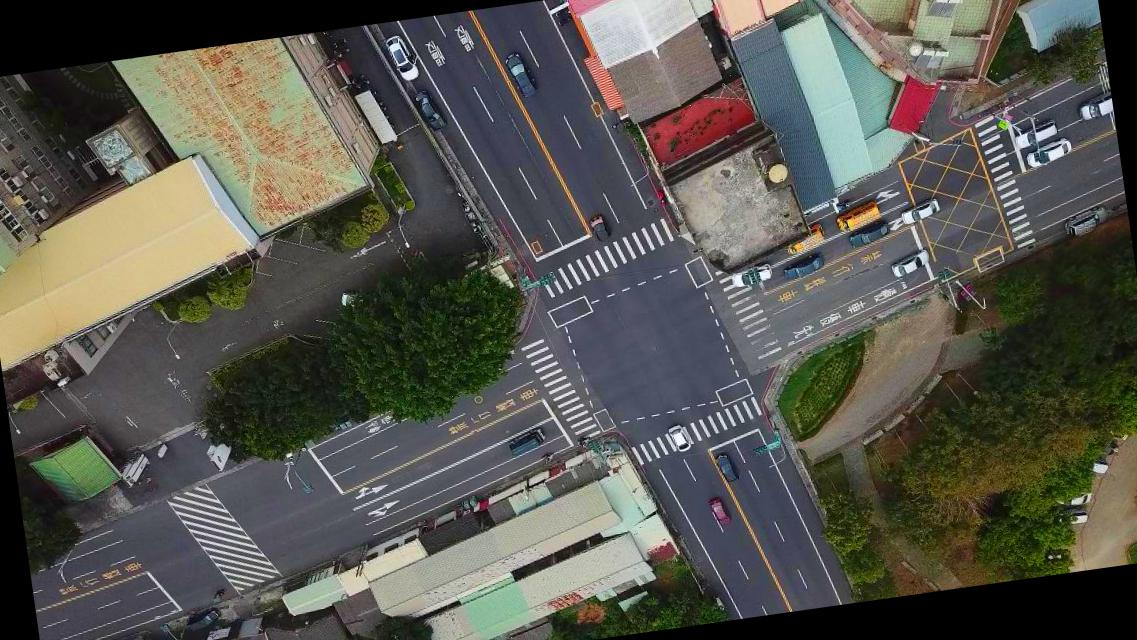vehicle: (384, 29, 422, 86), (410, 86, 448, 136), (504, 48, 538, 100), (1023, 136, 1074, 170), (833, 201, 882, 236), (1061, 204, 1110, 238), (1011, 118, 1060, 151), (846, 218, 892, 252), (888, 247, 934, 281), (783, 223, 827, 257), (505, 425, 550, 458), (780, 253, 826, 283), (897, 199, 942, 228), (729, 262, 773, 290), (1076, 90, 1114, 122), (184, 606, 222, 634), (713, 450, 741, 487), (668, 422, 692, 454), (708, 496, 732, 528), (590, 213, 614, 243)
